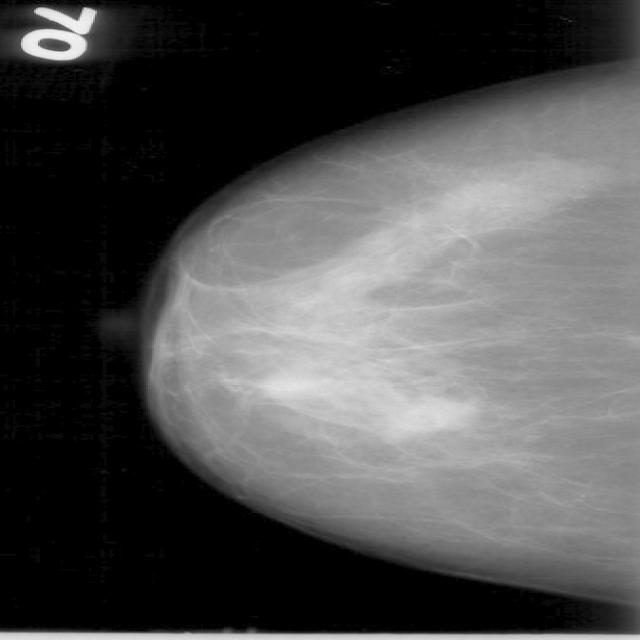tumour: (374, 398, 477, 437)
